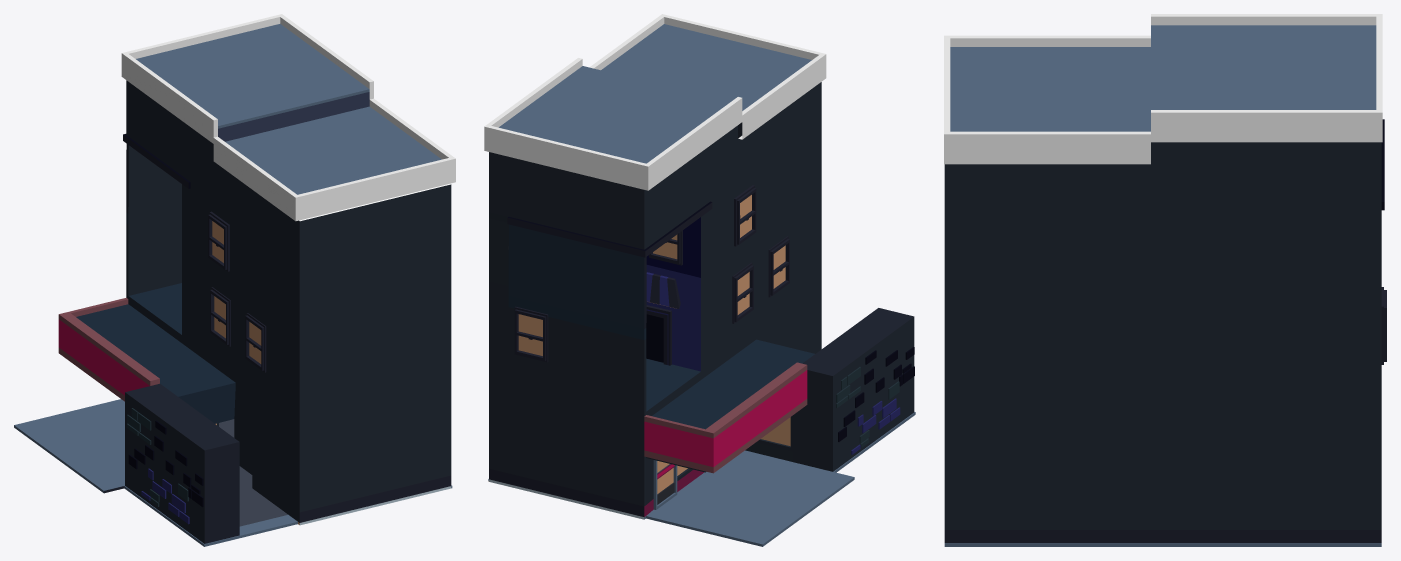
Rendered from Building_Sparrows and Jazz.fbx.
3 renders of one model, left to right at view 1: azimuth 30°, elevation 25°; view 2: azimuth 150°, elevation 25°; view 3: azimuth 270°, elevation 25°, orthographic. The views are drawn at different scales.
Visible parts, largest first — view 1: Cube.649, Cube.651; view 2: Cube.649, Cube.651, Cube.650, Cube.647; view 3: Cube.649.
Part boxes in pixels (x1,y1,x2,y2): Cube.649: (14, 14, 455, 546); Cube.651: (126, 408, 203, 524); Cube.649: (484, 14, 915, 546); Cube.651: (836, 347, 914, 454); Cube.650: (646, 272, 680, 365); Cube.647: (653, 460, 677, 509); Cube.649: (944, 14, 1386, 546).
Size of the model in its own units: 835 by 1023 by 940.
